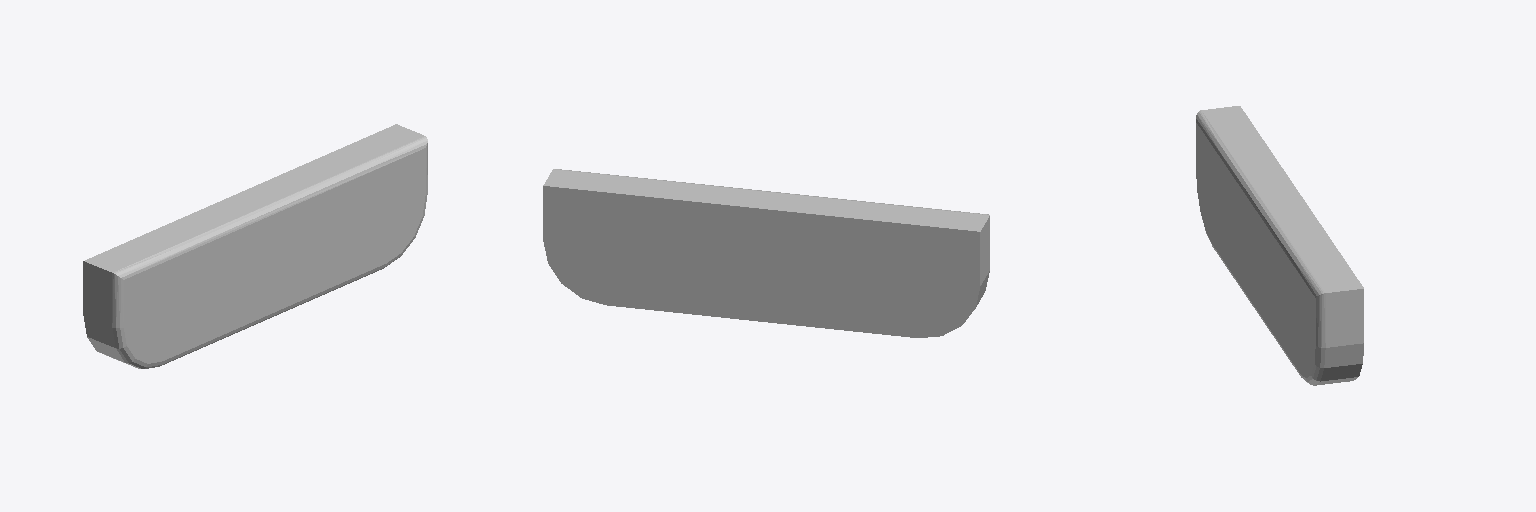
The model's file is Shoulder-Right-Button.obj.
The picture shows the model from 3 angles: view 1: azimuth 30°, elevation 25°; view 2: azimuth 150°, elevation 25°; view 3: azimuth 270°, elevation 25°; orthographic projection.
Visible parts, largest first — view 1: Shoulder-Right-Button; view 2: Shoulder-Right-Button; view 3: Shoulder-Right-Button.
Part boxes in pixels (x1,y1,x2,y2): Shoulder-Right-Button: (83,124,427,368); Shoulder-Right-Button: (543,169,989,337); Shoulder-Right-Button: (1196,106,1363,385).
Size of the model in its own units: 27.62 by 7.75 by 10.48.